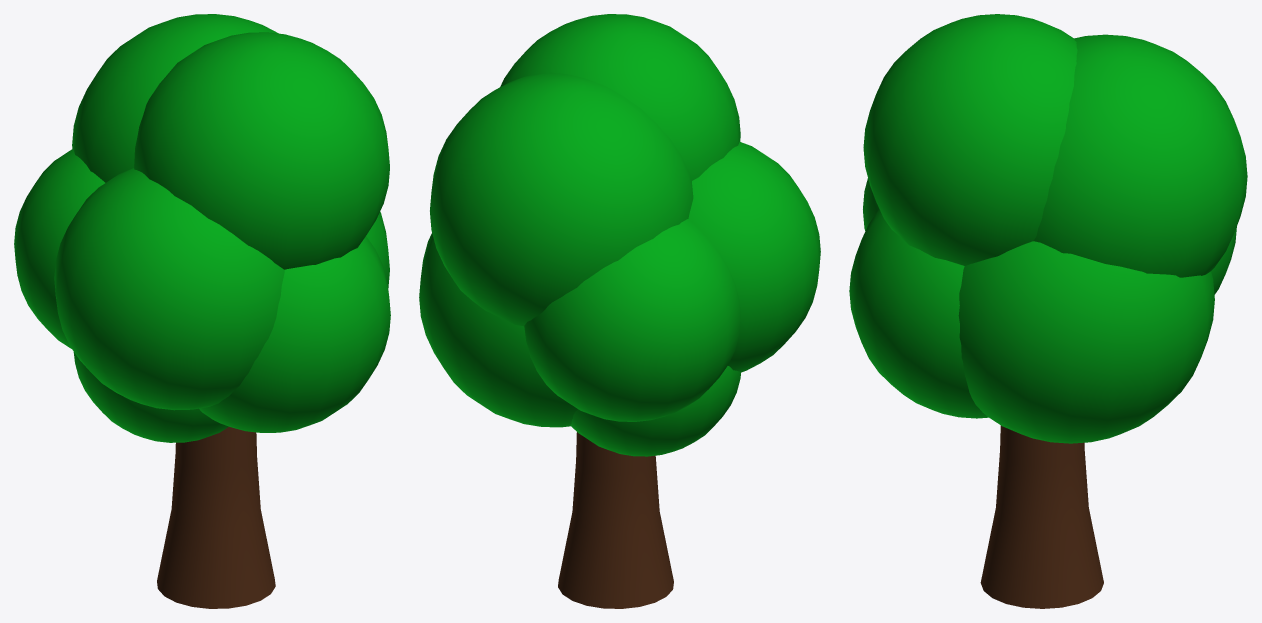
The model's file is SphereTree.fbx.
3 views of the same model, side by side, from view 1: azimuth 30°, elevation 25°; view 2: azimuth 150°, elevation 25°; view 3: azimuth 270°, elevation 25° (orthographic). The views are drawn at different scales.
Parts seen in each view (by area): view 1: polySurface13; view 2: polySurface13; view 3: polySurface13.
Part boxes in pixels (x1,y1,x2,y2): polySurface13: (14,14,390,608); polySurface13: (419,14,820,608); polySurface13: (849,14,1247,608).
Bounding box in the file's own units: 10.31 × 15.97 × 10.15.
